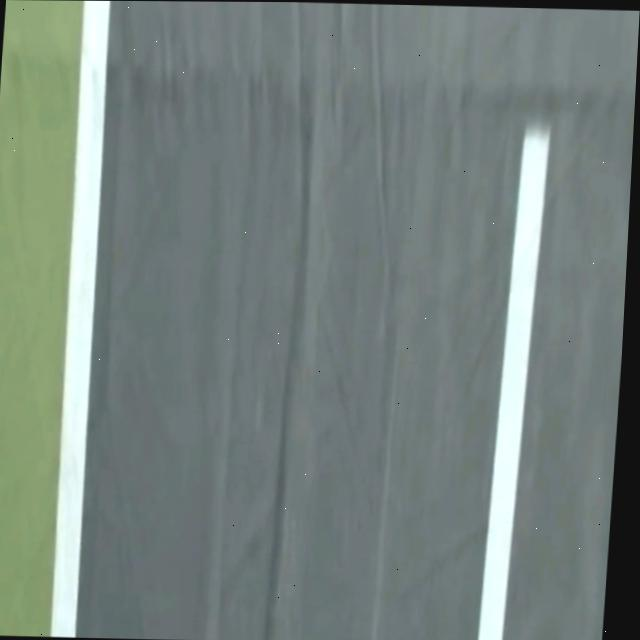center: (478, 122, 549, 640)
right: (51, 1, 110, 637)
